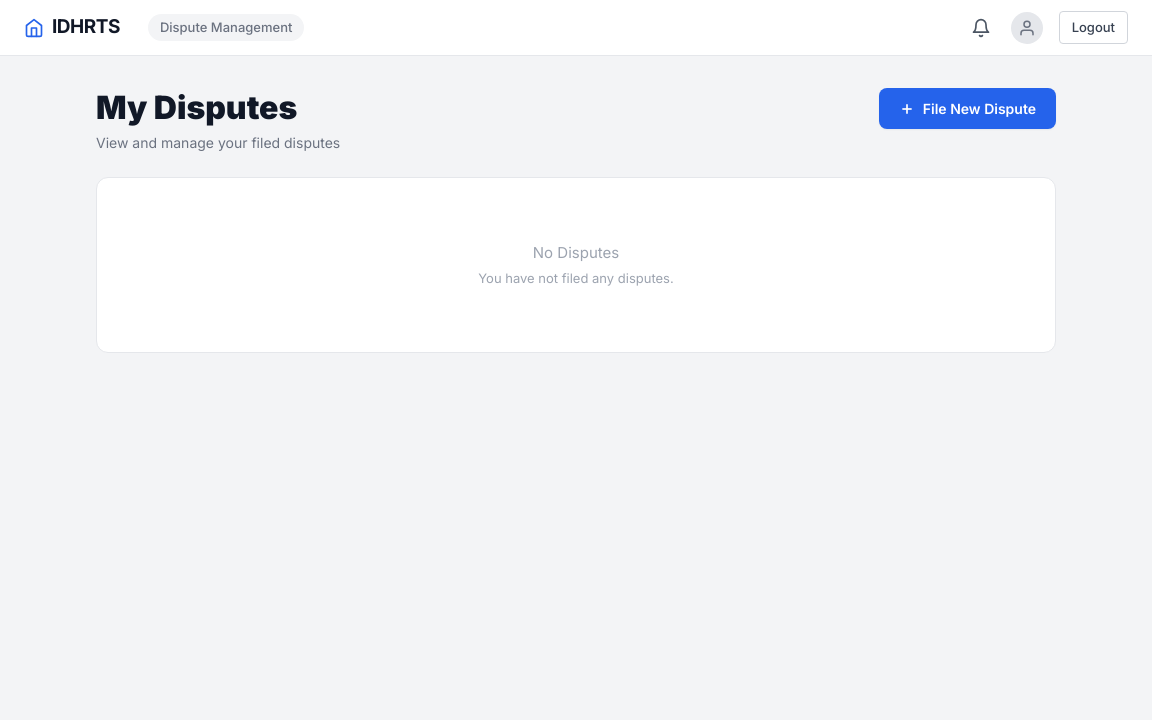
DisputesDashboard › handles dispute submission error
Click the button "File New Dispute": (967, 108) [879,88,1056,129]
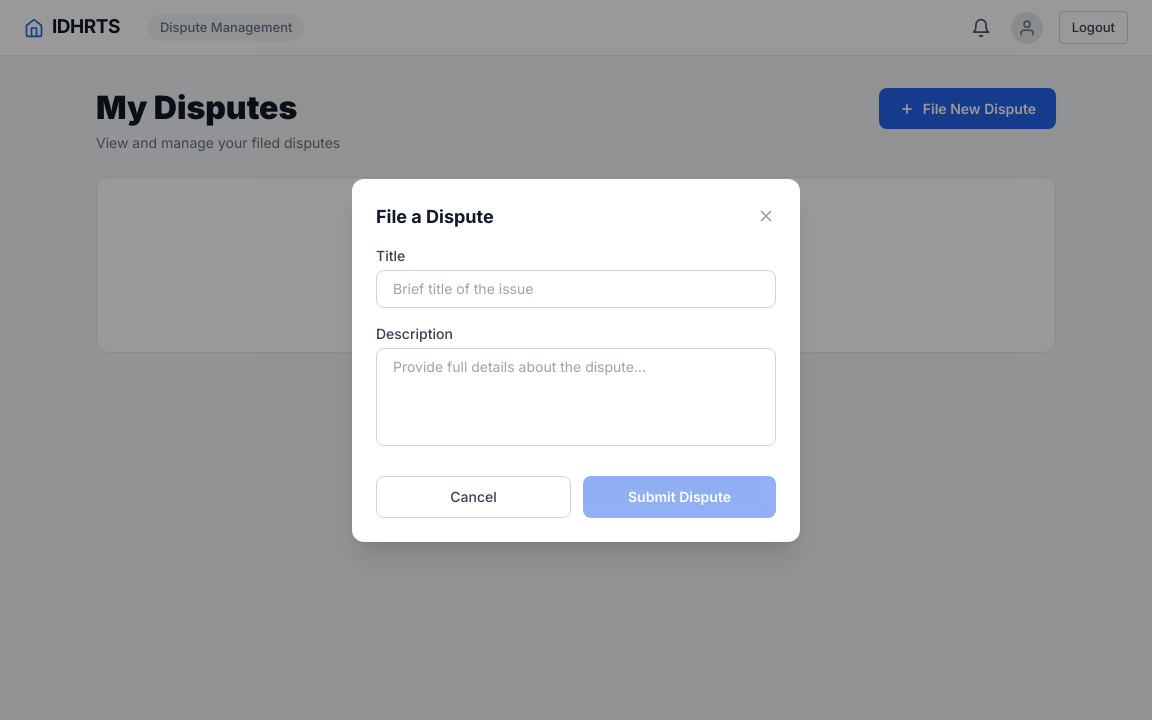
In the field with placeholder "Brief title of the issue": (576, 288) [376,270,776,308], type "Water Leaking"
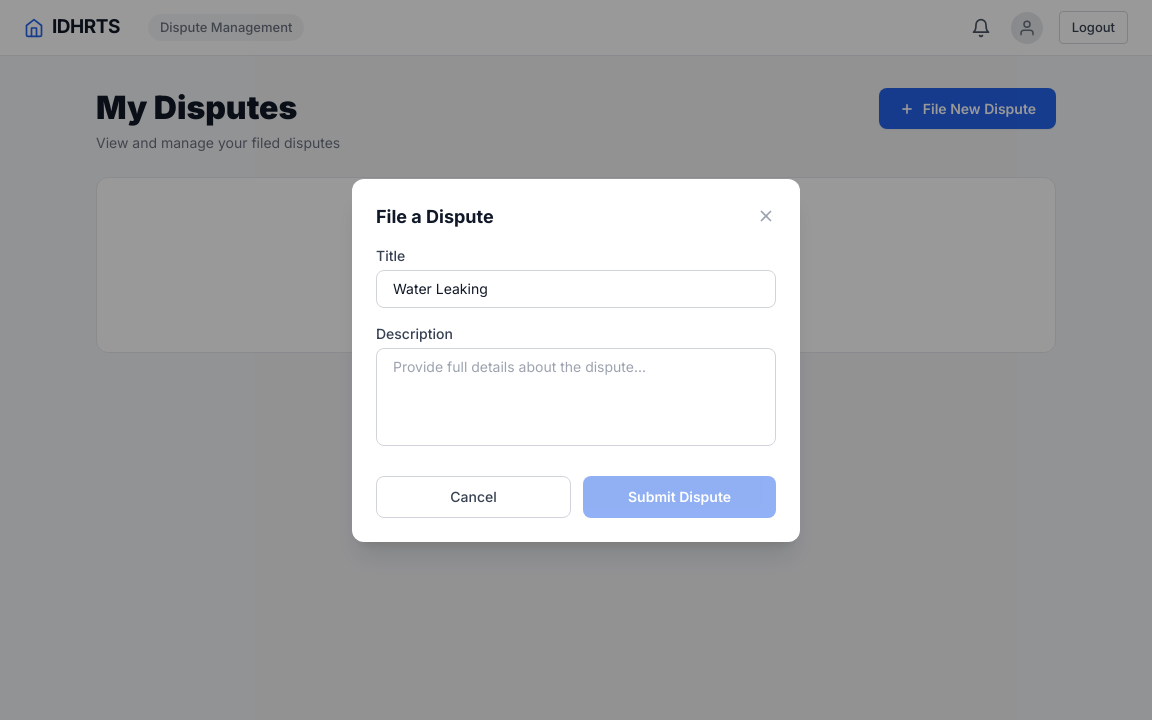
In the text box with placeholder "Provide full details about the dispute...": (576, 396) [376,348,776,446], type "Pipe has been leaking"
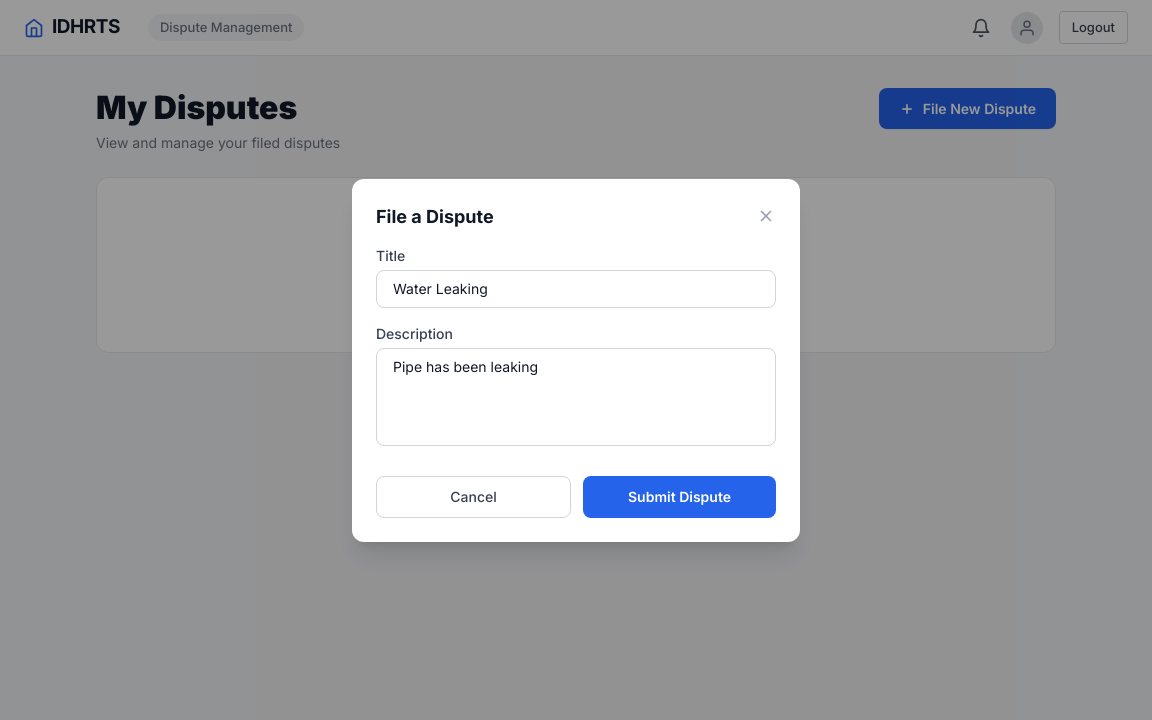
Click the button "Submit Dispute": (680, 496) [583,476,776,518]
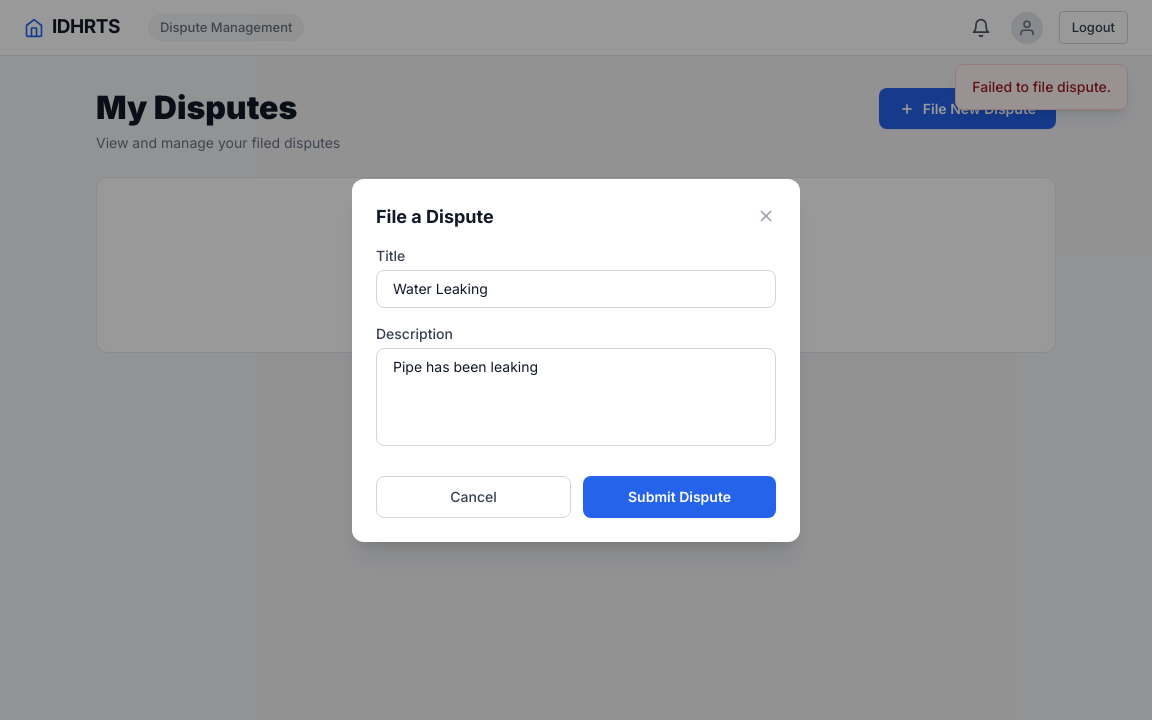
expect the text "Failed to file dispute." is shown: met, box [955,64,1128,110]
